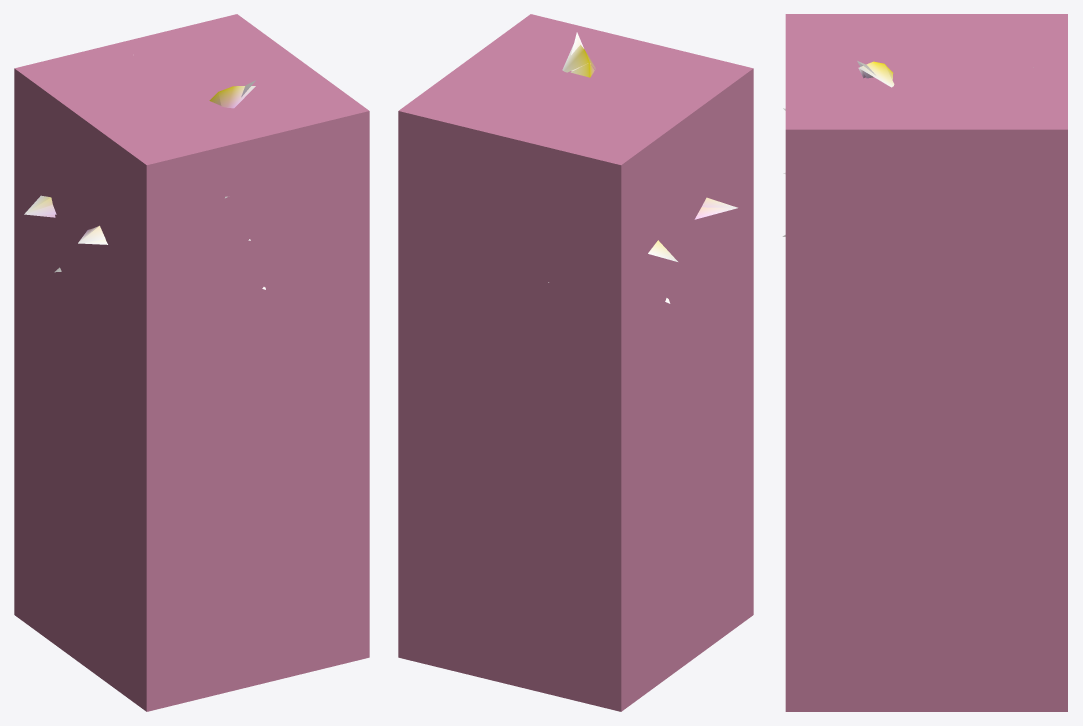
The model's file is tree_palm_a.dae.
3 renders of one model, left to right at view 1: azimuth 30°, elevation 25°; view 2: azimuth 150°, elevation 25°; view 3: azimuth 270°, elevation 25°, orthographic. The views are drawn at different scales.
Visible parts, largest first — view 1: Untitled, tree_oak_bush_a350; view 2: Untitled, tree_oak_bush_a350; view 3: Untitled, tree_oak_bush_a350.
Part boxes in pixels (x1,y1,x2,y2): Untitled: [14, 14, 369, 711]; tree_oak_bush_a350: [24, 86, 265, 289]; Untitled: [398, 14, 753, 711]; tree_oak_bush_a350: [548, 44, 737, 303]; Untitled: [785, 14, 1067, 711]; tree_oak_bush_a350: [783, 61, 894, 236].
Bounding box in the file's own units: 7.52 × 7.02 × 16.63.
